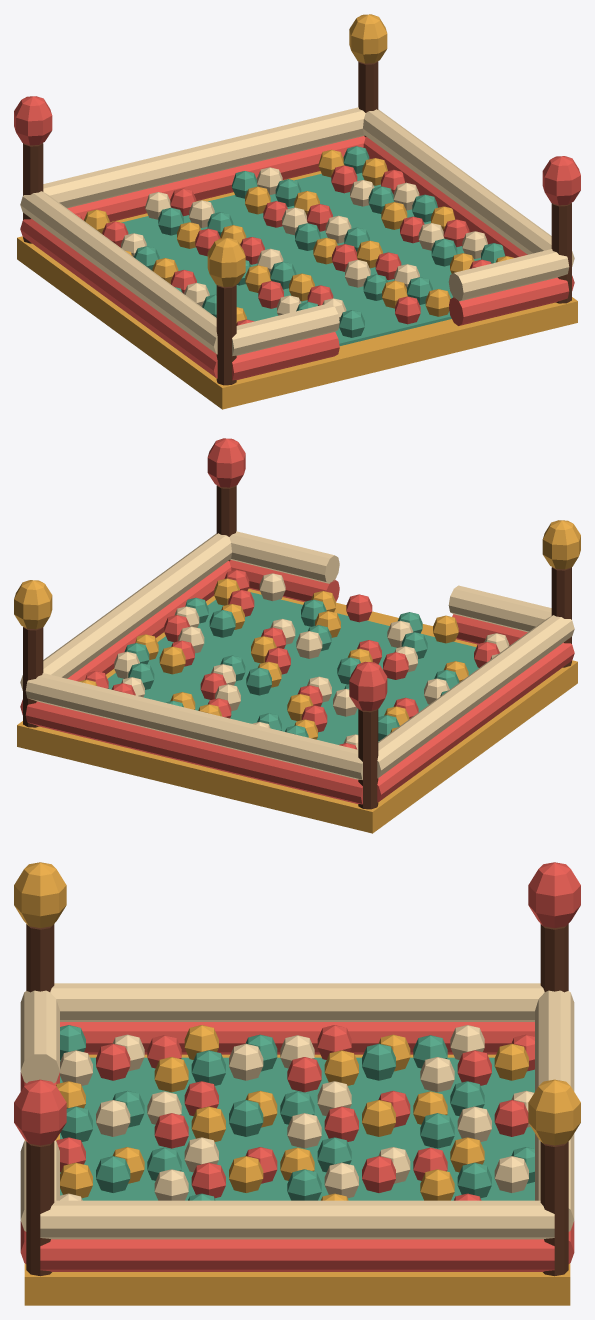
Rendered from ParkParkBallPit.obj.
3 views of the same model, one above another, from view 1: azimuth 30°, elevation 25°; view 2: azimuth 150°, elevation 25°; view 3: azimuth 270°, elevation 25° (orthographic). The views are drawn at different scales.
Parts seen in each view (by area): view 1: ParkParkBallPit; view 2: ParkParkBallPit; view 3: ParkParkBallPit.
Boxes of the visible parts, box(x1,y1,x2,y2) form: ParkParkBallPit: box(14, 14, 580, 409); ParkParkBallPit: box(14, 438, 580, 833); ParkParkBallPit: box(14, 862, 580, 1305).
Size of the model in its own units: 14.33 by 6.1 by 14.33.
